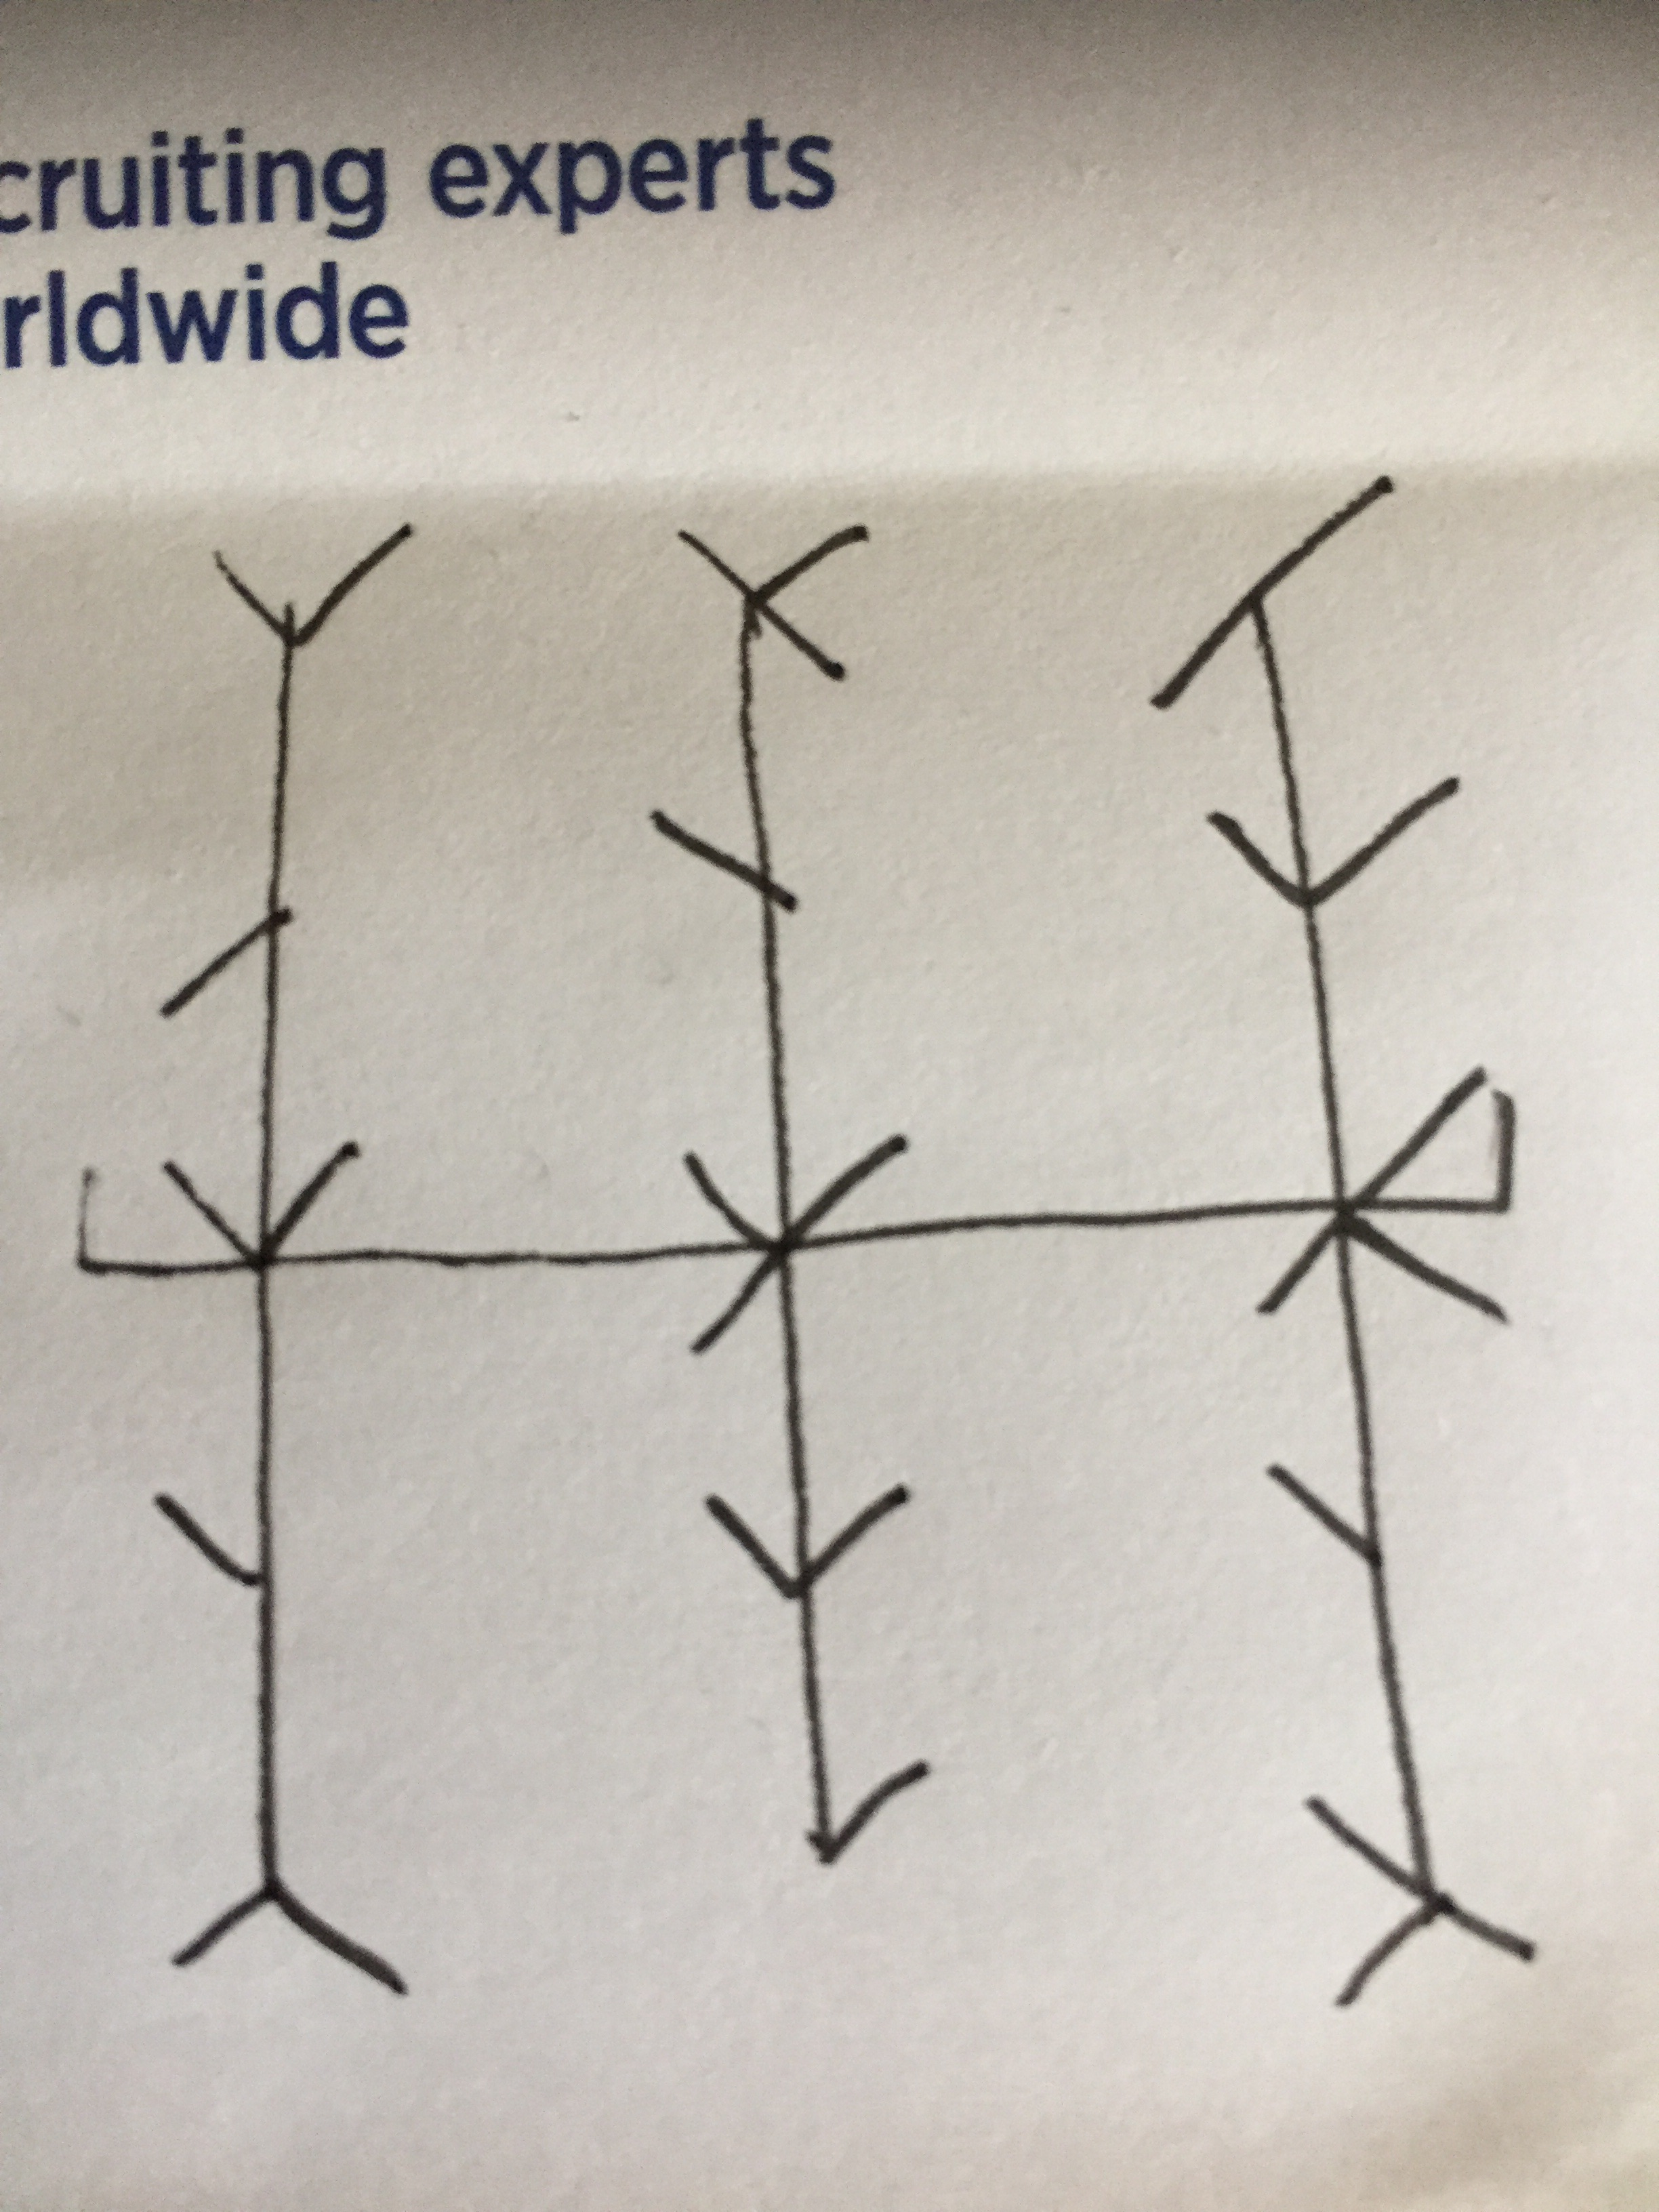Bar: (1148, 477, 1541, 2010), (152, 521, 415, 2000), (648, 523, 934, 1867)
Barcode: (75, 477, 1541, 2013)
End: (1474, 1087, 1518, 1216)
Start: (71, 1167, 162, 1278)
